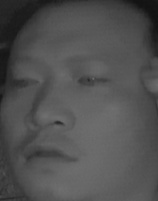eye: (77, 70, 107, 91), (13, 69, 41, 90)
mouth: (21, 137, 82, 174)
